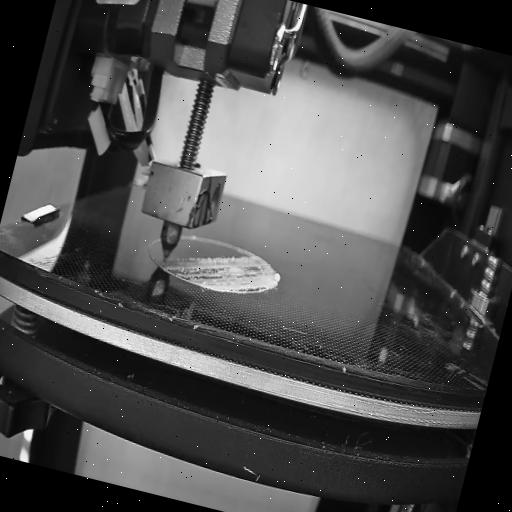under_extrusion: (167, 250, 227, 290), (234, 258, 270, 296)
